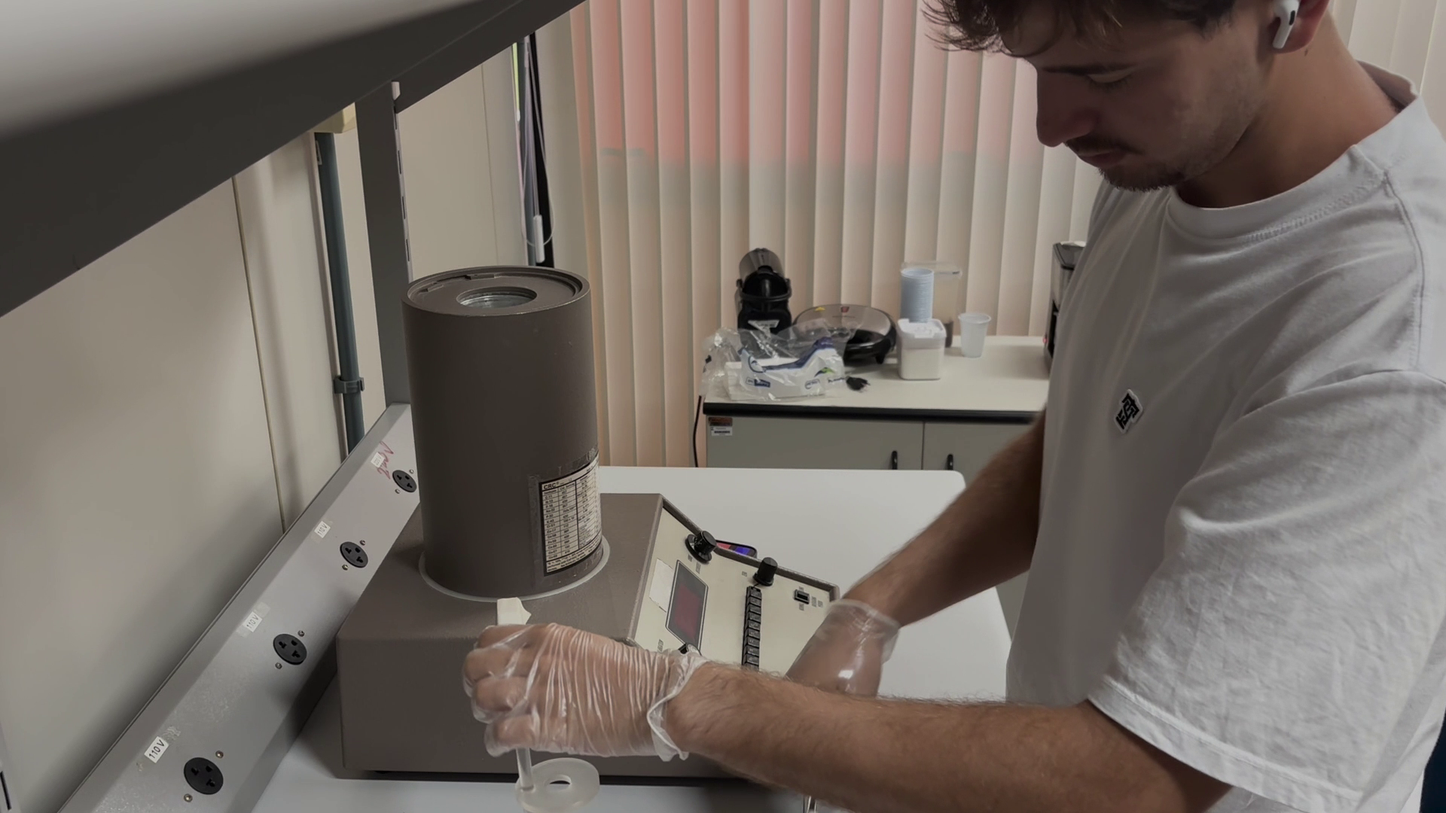Ativimetro: (399, 247, 610, 586)
Cesta: (490, 592, 603, 813)
Com_Luva: (462, 620, 707, 766)
